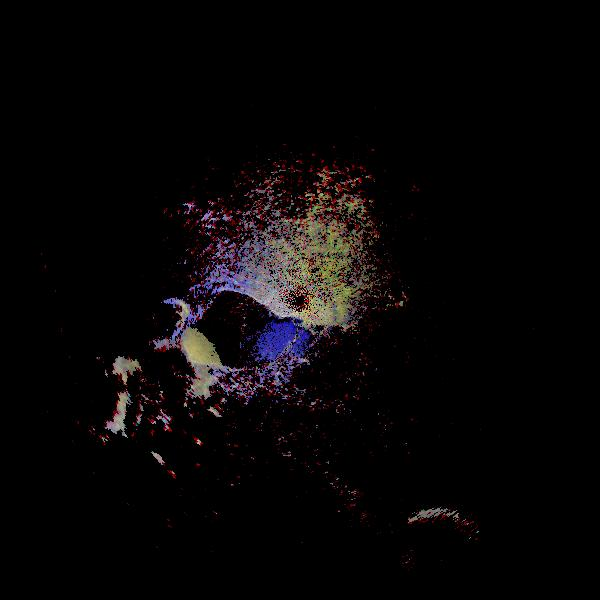roost: (39, 326, 174, 461), (112, 304, 247, 439), (375, 482, 510, 600)
